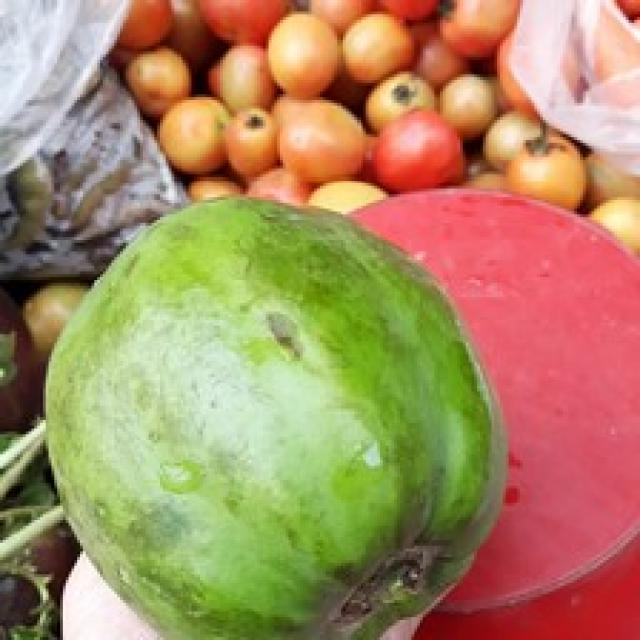Pepaya unrippen: (41, 195, 517, 640)
